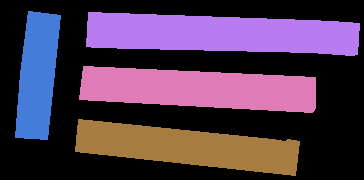parkingspot: (75, 119, 299, 175), (86, 12, 359, 55), (79, 66, 315, 112), (15, 11, 60, 139)
